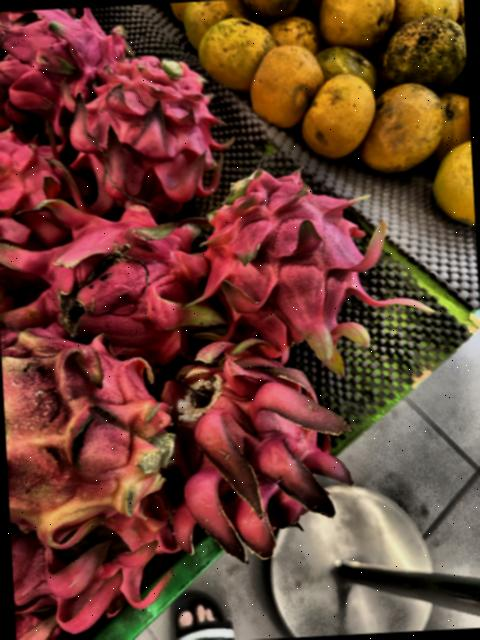buah-naga-belum-matang: (0, 312, 174, 533)
buah-naga-matang: (200, 162, 442, 373), (150, 346, 356, 559), (0, 190, 220, 361), (66, 45, 234, 224), (0, 7, 130, 115), (0, 118, 82, 225)
